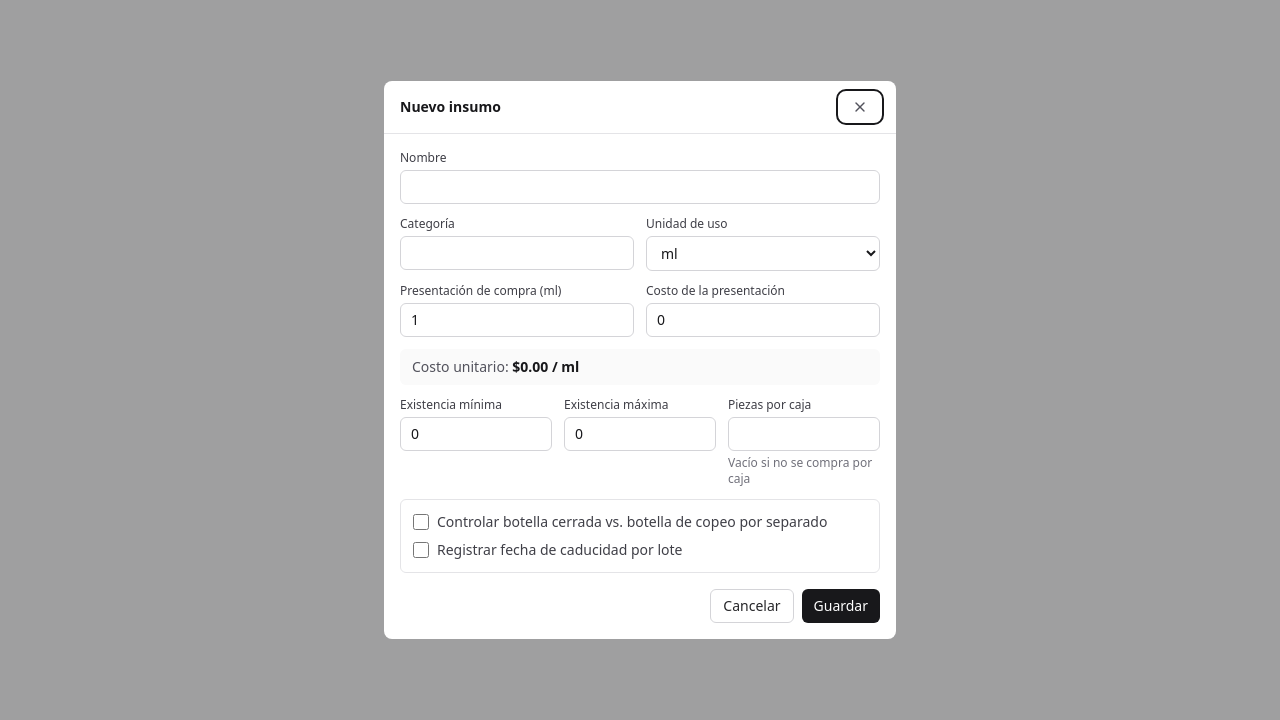
Test: <ModalEditarInsumo> › calcula el costo unitario en vivo mientras se captura
This screenshot has width=1280, height=720.
Replace the text in the number field labelled "Presentación de compra (ml)" with "750" at coordinates (517, 320), box left=400, top=303, right=634, bottom=337
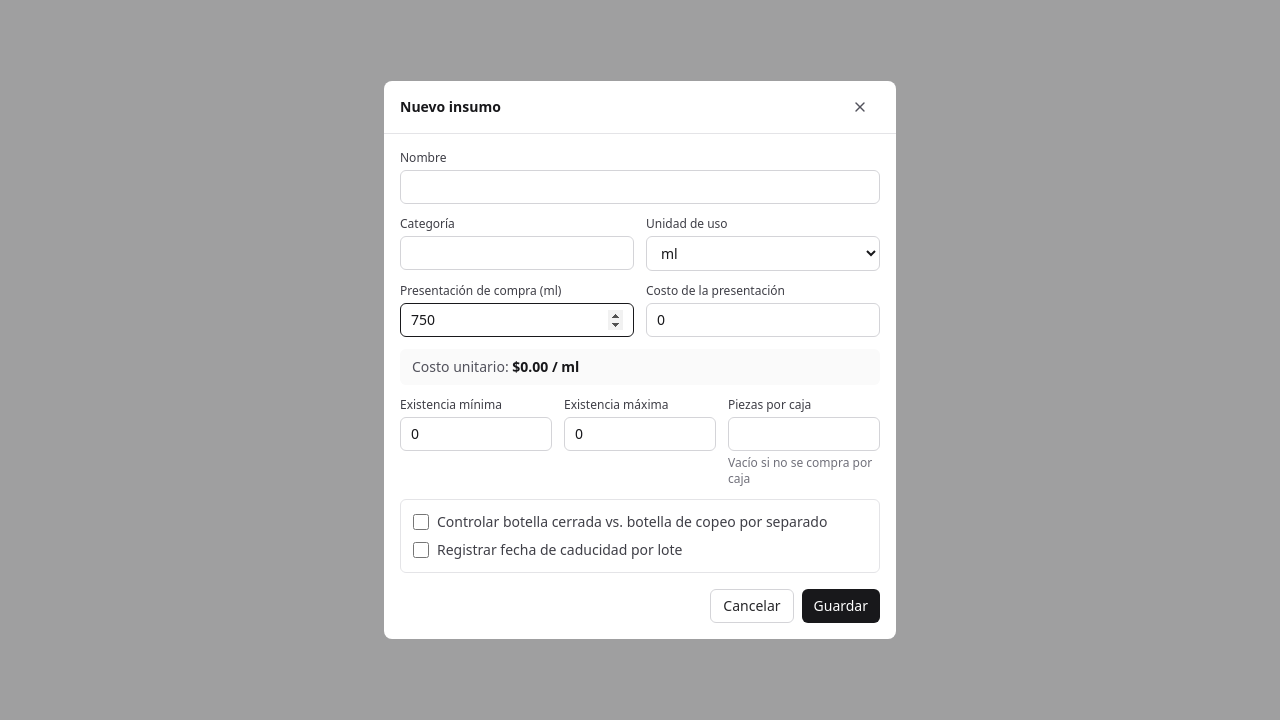
Type "665" into the number field labelled "Costo de la presentación" at coordinates (763, 320), box left=646, top=303, right=880, bottom=337
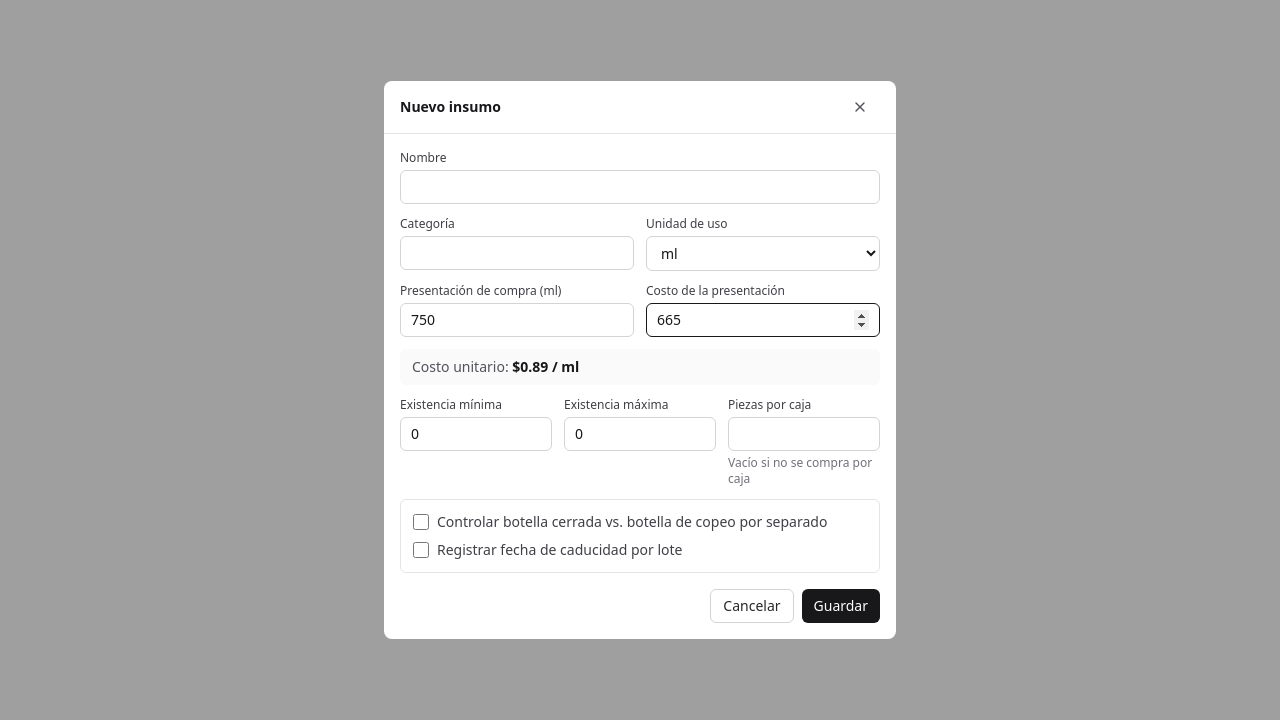
Now the text "$0.89 / ml" is shown, box left=512, top=357, right=579, bottom=376
